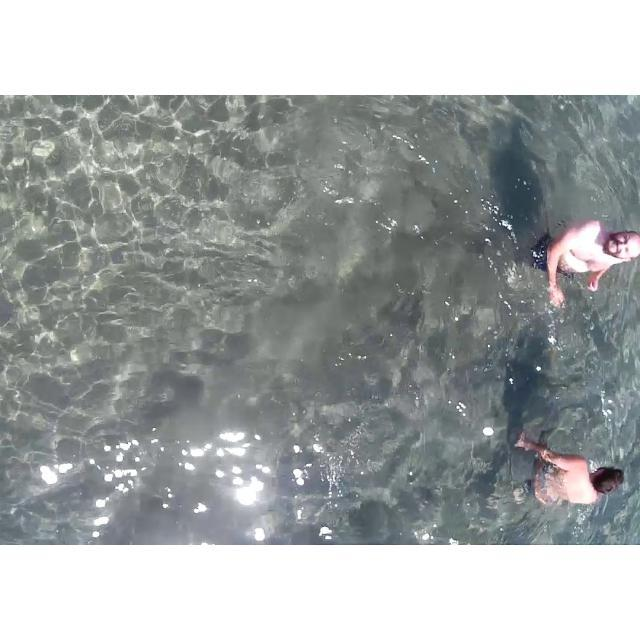human: (512, 411, 632, 533), (527, 188, 636, 313)
